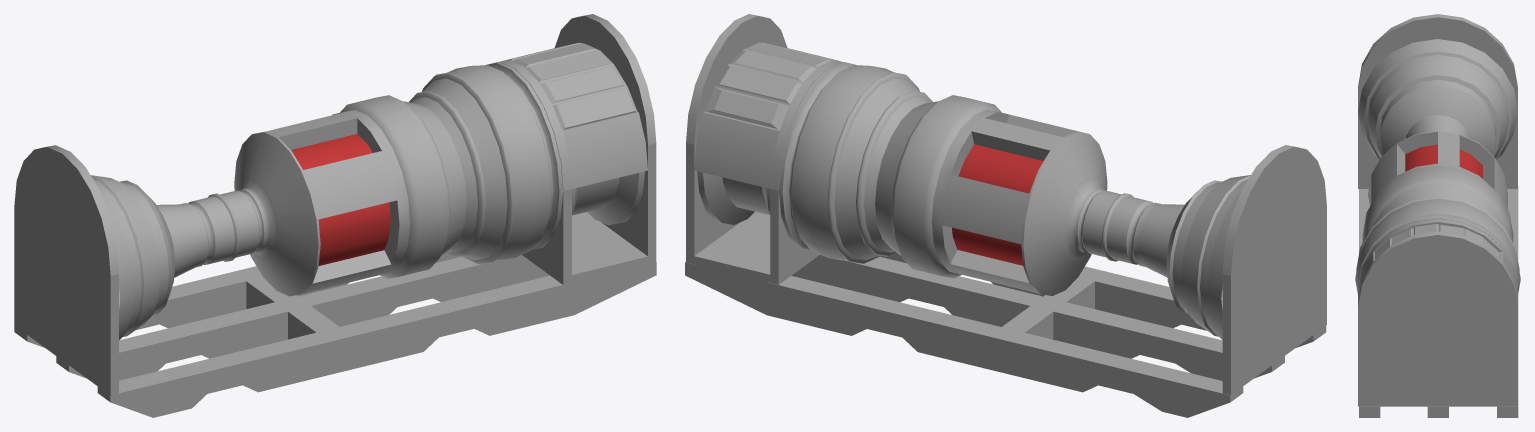
File: generador2.fbx
3 views of the same model, side by side, from view 1: azimuth 30°, elevation 25°; view 2: azimuth 150°, elevation 25°; view 3: azimuth 270°, elevation 25° (orthographic). The views are drawn at different scales.
Visible parts, largest first — view 1: pasted__polySurface104; view 2: pasted__polySurface104; view 3: pasted__polySurface104.
Part boxes in pixels (x1=…): pasted__polySurface104: x1=14, y1=14, x2=656, y2=417; pasted__polySurface104: x1=685, y1=14, x2=1326, y2=417; pasted__polySurface104: x1=1355, y1=14, x2=1520, y2=417.
Bounding box in the file's own units: 17.31 × 7.26 × 5.47.
